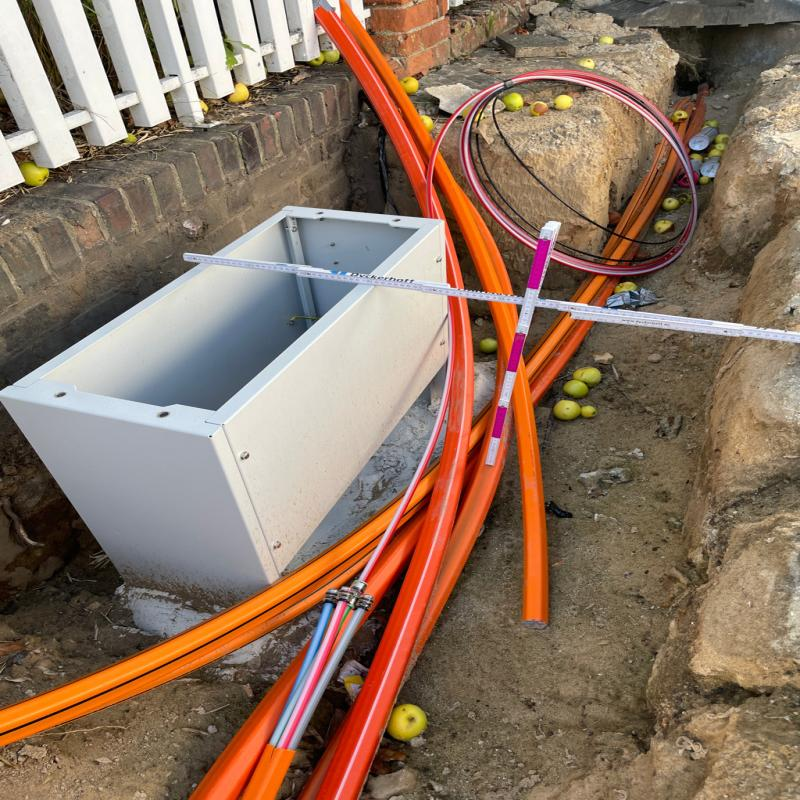Orang-Speednetrohrchen: (0, 29, 710, 798)
